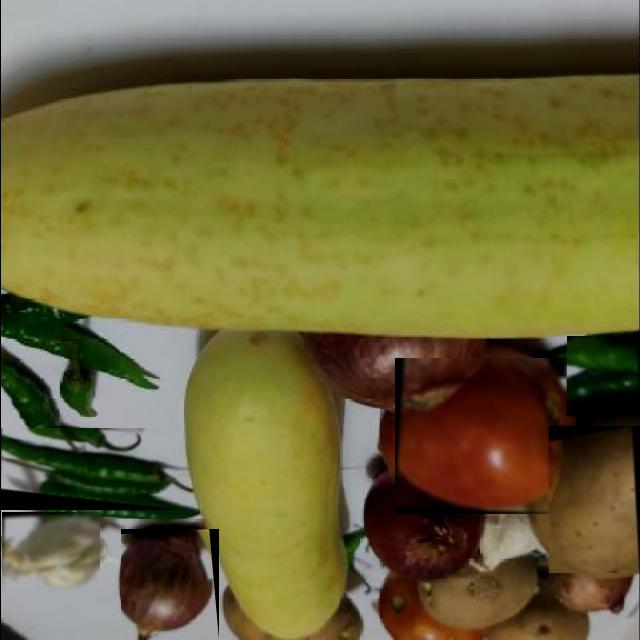Pepper: (0, 428, 180, 510), (566, 336, 640, 416)
garlic: (1, 512, 99, 590)
onion: (120, 529, 218, 640)
potato: (548, 426, 640, 573)
tomato: (394, 358, 575, 514)
